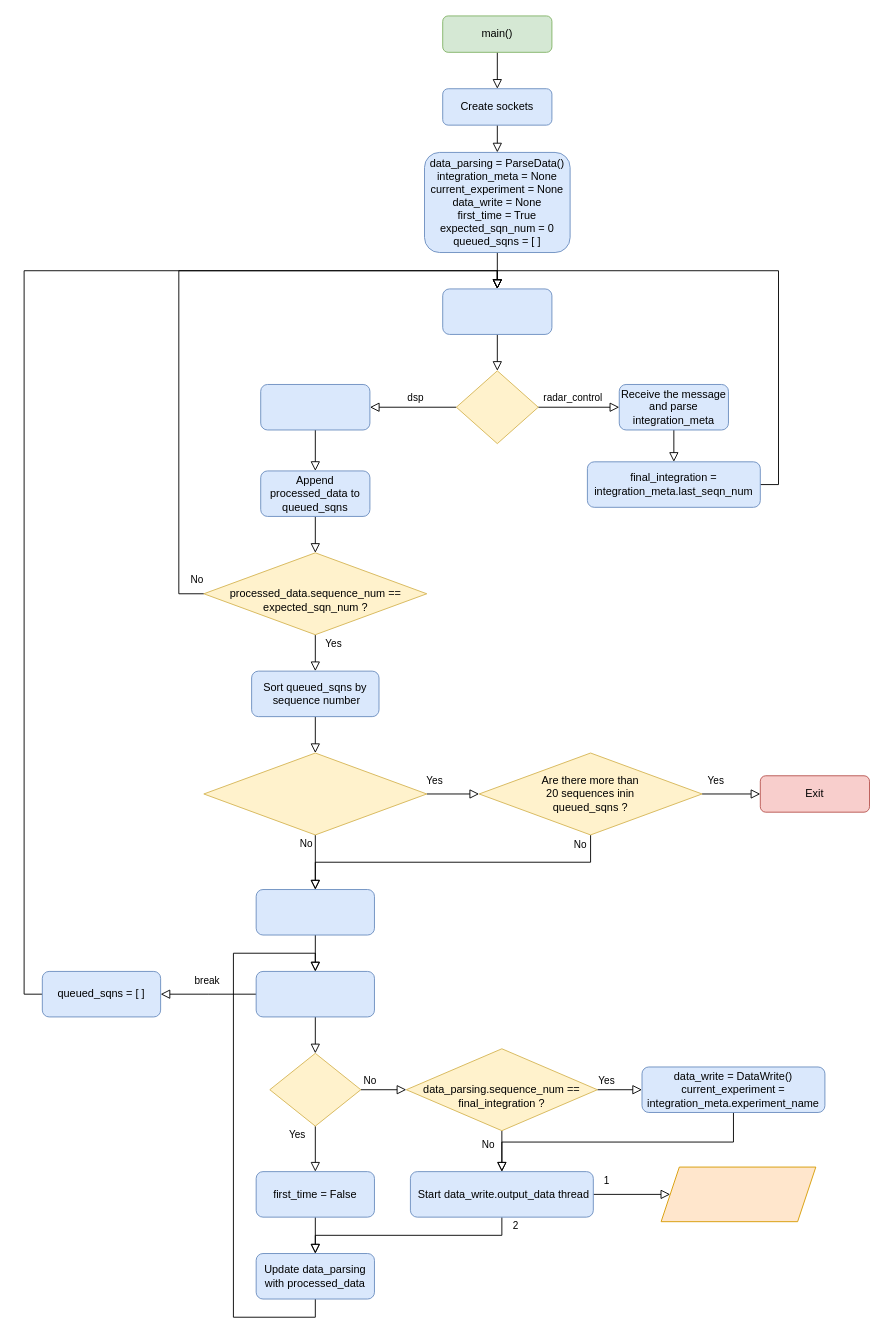
This 885x1342 diagram has some shape labels left out. The shapes that lost their labels are listed below. From the top down, each one's centre as x and y in pixels, then its label:
point (497, 311): Wait for message from DSP or radar_control
point (315, 407): Receive the message and parse processed_data
point (496, 407): Who was it from?
point (315, 793): Are there any skipped sequence_nums in queued_sq ns ?
point (314, 912): expected_sqn_num = last sequence_num in queue + 1
point (314, 994): For processed_data in queue:
point (315, 1089): first_time ?
point (738, 1194): data_write.output_data()
